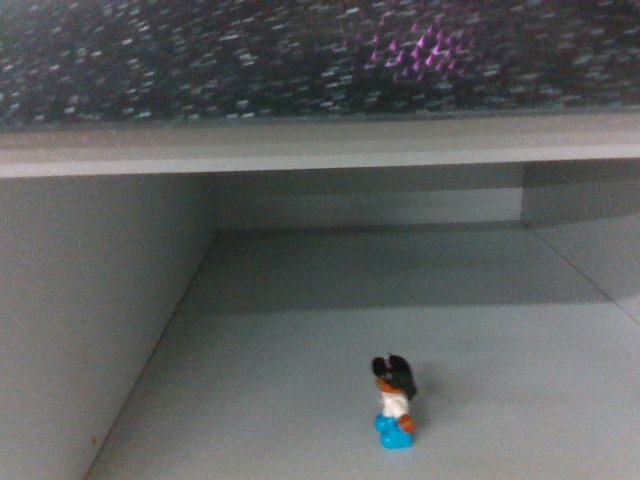people: (363, 352, 422, 451)
